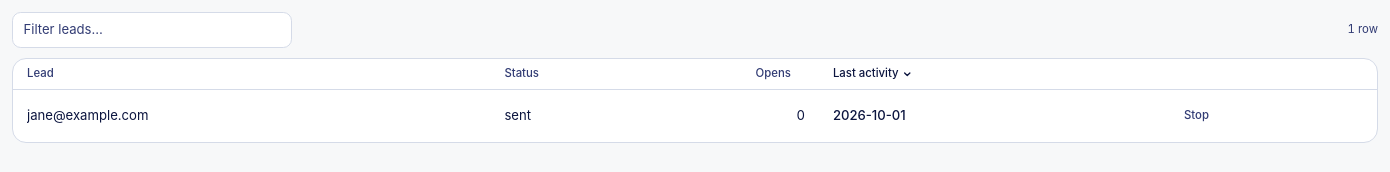
LeadActivityTable — stopping one recipient › replaces the button once the stop worked
Step 1. Click the button "Stop" → (1196, 116), box [1177,97,1216,135]
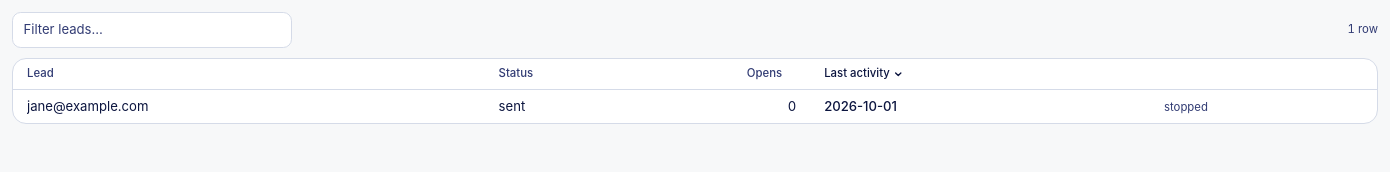
Check: the text "stopped" is shown, box [1164,100,1208,114]
